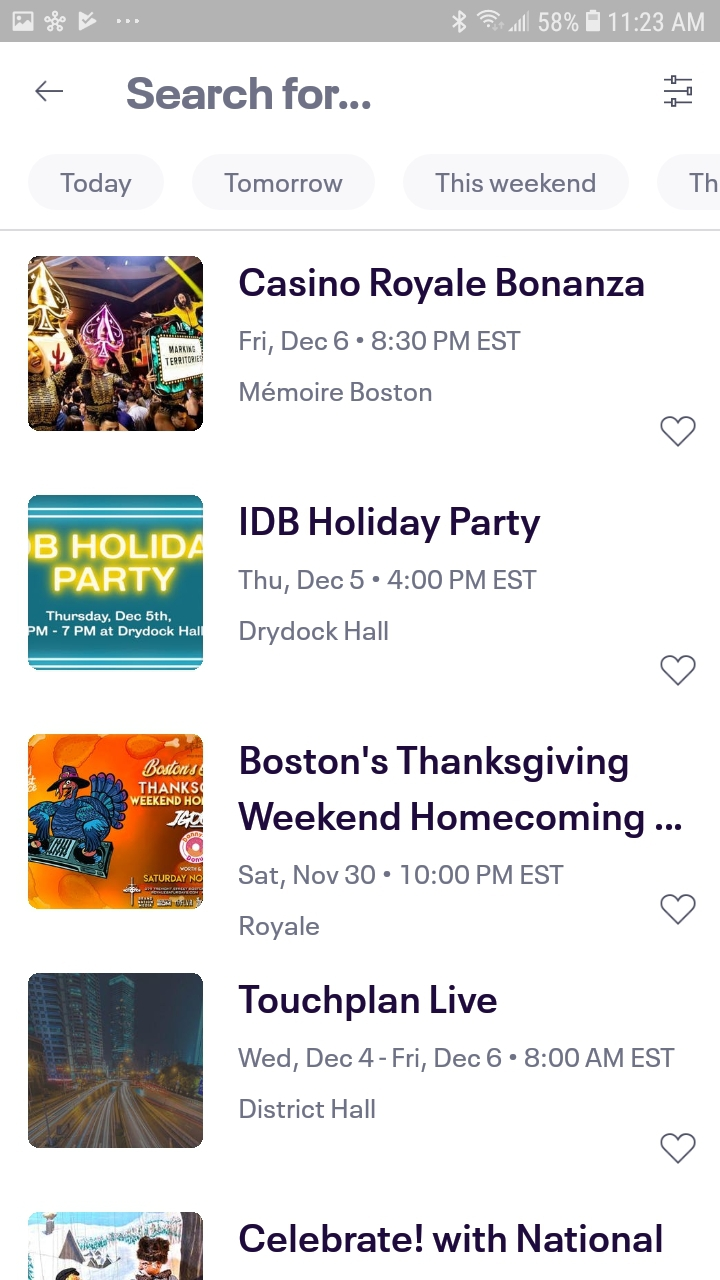Icon: (660, 416, 697, 448), (660, 655, 697, 687), (659, 894, 696, 926), (660, 1132, 697, 1164), (663, 75, 693, 109), (35, 81, 65, 104)
Image: (28, 256, 204, 432), (28, 495, 204, 671), (28, 734, 204, 910), (28, 973, 204, 1149), (29, 1211, 205, 1280)
Text: (238, 745, 682, 839), (238, 1047, 676, 1119), (239, 864, 565, 941), (238, 569, 538, 646), (240, 331, 522, 403), (240, 268, 645, 305), (240, 1223, 663, 1253), (241, 506, 542, 544), (238, 984, 498, 1022), (127, 77, 372, 112)
TextButton: (404, 155, 630, 212), (192, 154, 376, 211), (28, 154, 165, 211), (657, 154, 720, 211)
UpperTaskBar: (1, 1, 720, 43)
